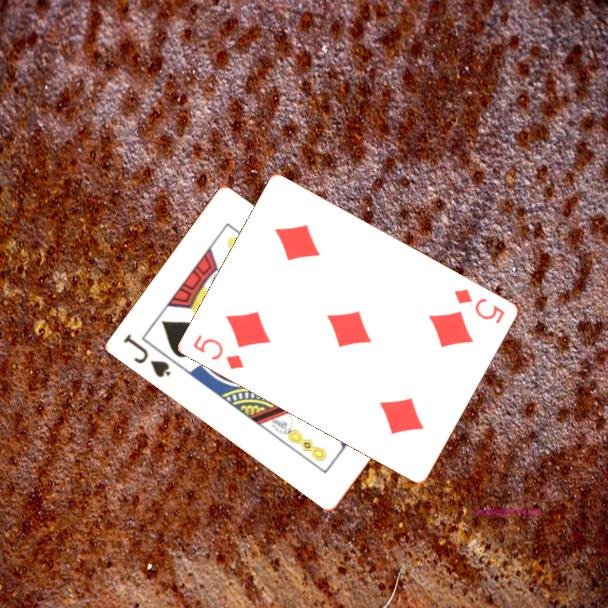d05: (451, 285, 508, 327), (190, 331, 248, 372)
s11: (120, 330, 174, 381)
